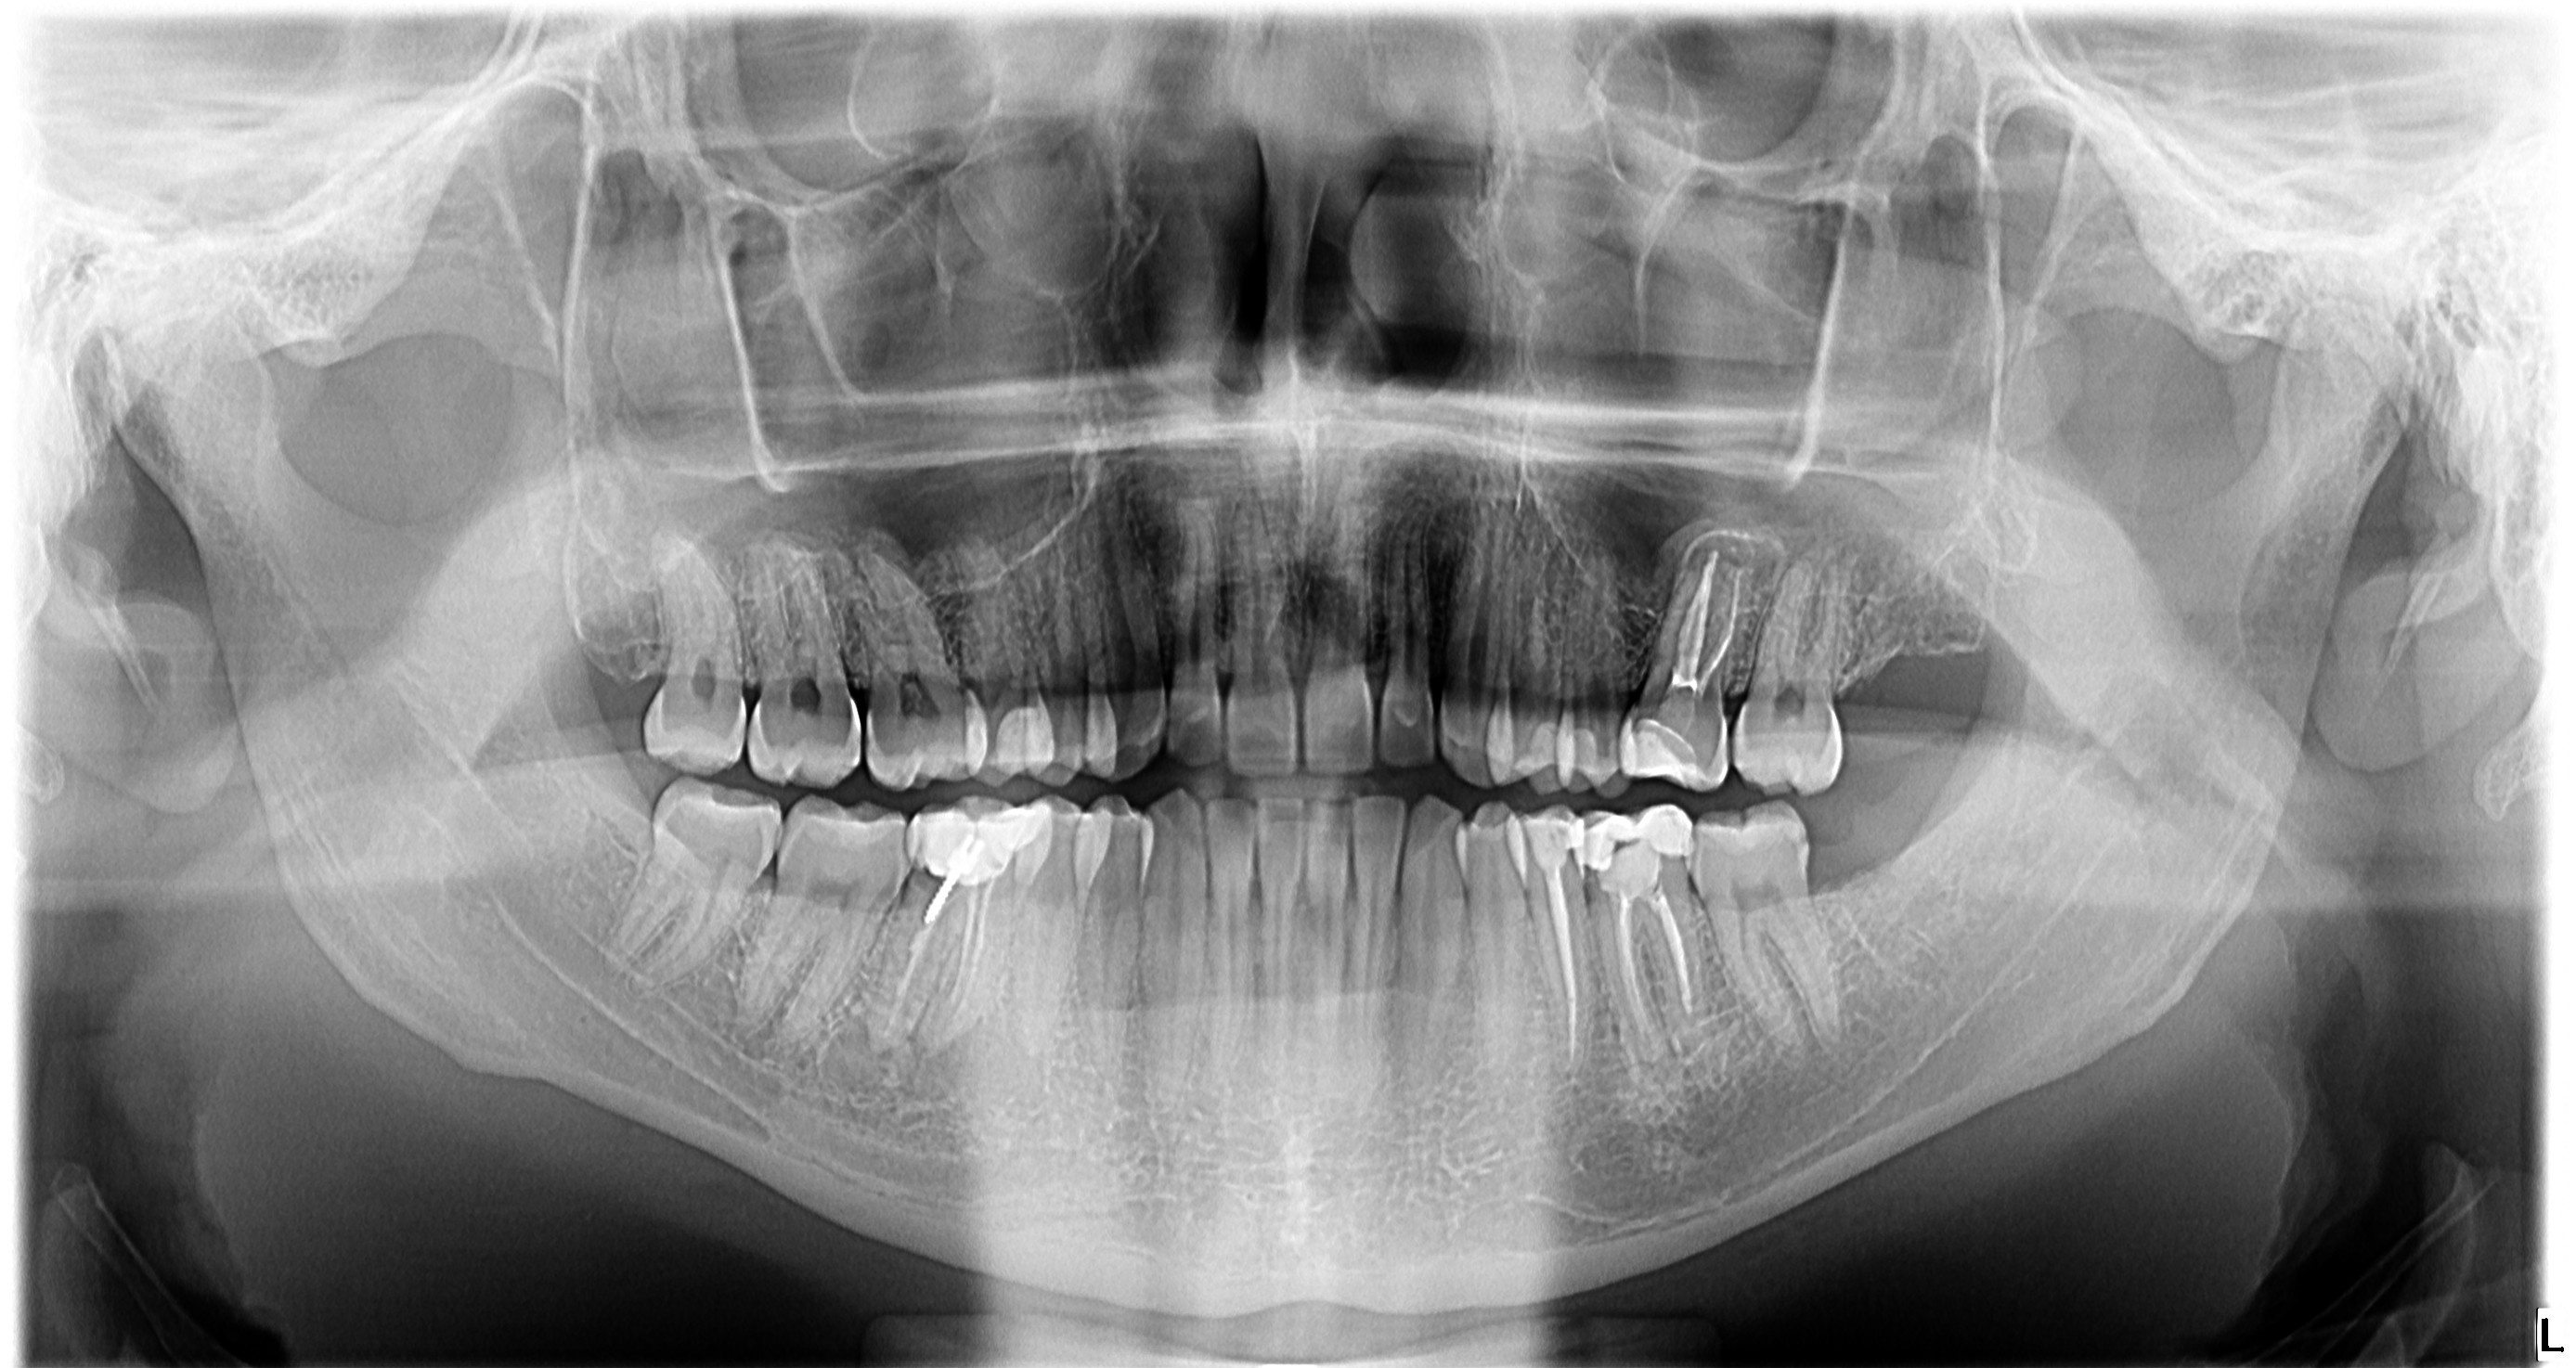END: (1598, 862, 1717, 1055), (877, 864, 1010, 1032), (1654, 513, 1760, 704), (1518, 855, 1608, 1058)
OBT: (884, 789, 1048, 888), (1603, 688, 1717, 797), (1579, 806, 1705, 881), (986, 680, 1070, 789), (1506, 792, 1584, 889)
